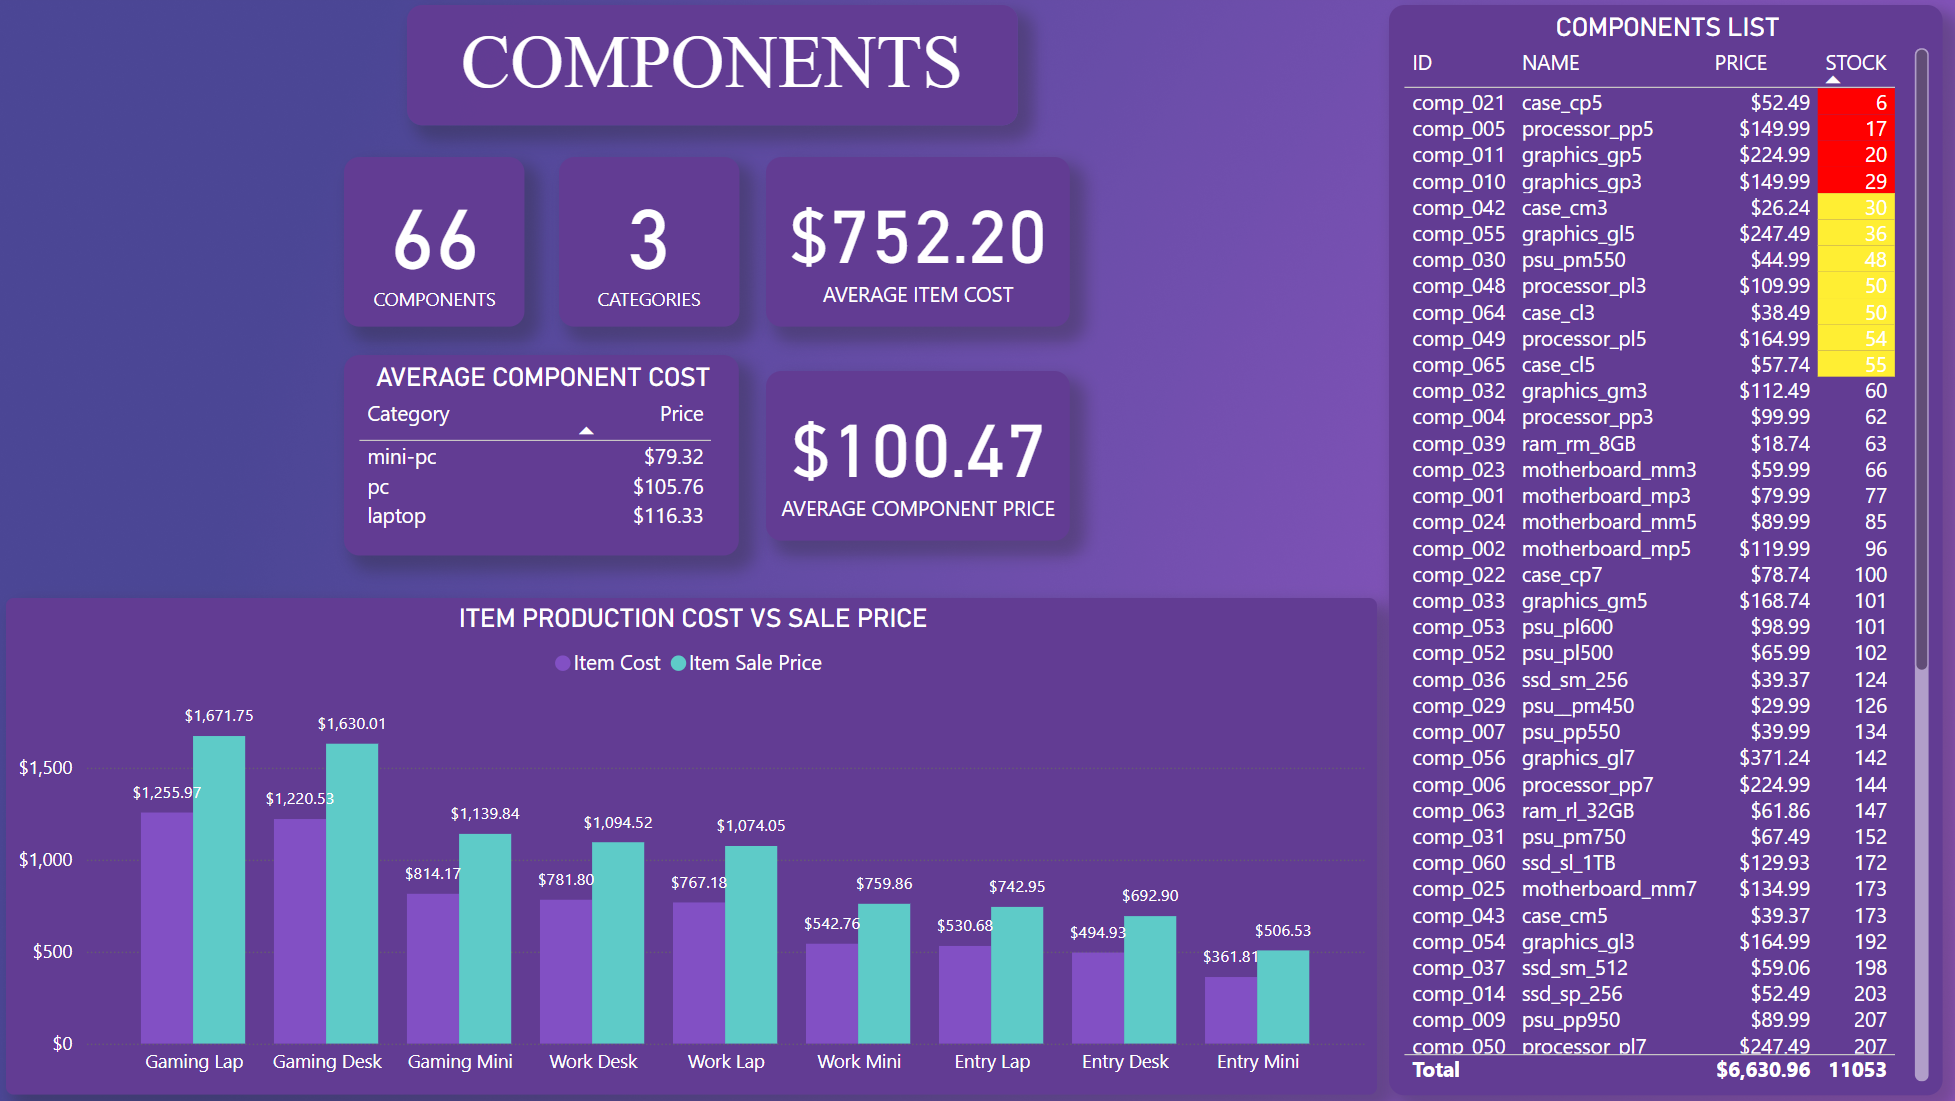

The dashboard page shown, as its layout file describes it:
{"tool":"powerbi","page":{"name":"COMPONENTS","canvas":[1280,720],"ordinal":2},"visuals":[{"type":"clusteredColumnChart","title":"ITEM PRODUCTION COST VS SALE PRICE","fields":{"Category":["items.item_name"],"Y":["Sum(items.item_cost)","Sum(items.item_price)"]},"box":[8.4,391,889,322.3],"z":0},{"type":"tableEx","title":"AVERAGE COMPONENT COST","fields":{"Values":["components.component_category","components.component_price"]},"box":[227.6,233.4,256.1,130.3],"z":1000},{"type":"tableEx","title":"COMPONENTS LIST","fields":{"Values":["components_stock.component_id","components.component_name","Sum(components.component_price)","Sum(components_stock.stock)"]},"box":[905.2,6.5,359.2,706.8],"z":2000},{"type":"textbox","box":[268.4,6.5,395.5,77.8],"z":3000},{"type":"card","fields":{"Values":["Count(components.component_id)"]},"box":[227.6,105,117.4,109.6],"z":4000},{"type":"card","fields":{"Values":["Count(components.component_category)"]},"box":[367,105,116.7,109.6],"z":5000},{"type":"card","fields":{"Values":["Avg(items.item_cost)"]},"box":[501.2,105,197.1,109.6],"z":6000},{"type":"card","fields":{"Values":["Avg(components.component_price)"]},"box":[501.2,243.8,197.1,109.6],"z":7000}]}

Visuals, with their boxes in screenshot pixels (x1, y1, x2, y2), scaled from the page's 1280x720 canvas onto the 1955x1101 screenshot:
"ITEM PRODUCTION COST VS SALE PRICE" clusteredColumnChart: <bbox>13, 598, 1371, 1091</bbox>
"AVERAGE COMPONENT COST" tableEx: <bbox>348, 357, 739, 556</bbox>
"COMPONENTS LIST" tableEx: <bbox>1383, 10, 1931, 1091</bbox>
textbox: <bbox>410, 10, 1014, 129</bbox>
card - Count(components.component_id): <bbox>348, 161, 527, 328</bbox>
card - Count(components.component_category): <bbox>561, 161, 739, 328</bbox>
card - Avg(items.item_cost): <bbox>766, 161, 1067, 328</bbox>
card - Avg(components.component_price): <bbox>766, 373, 1067, 540</bbox>
